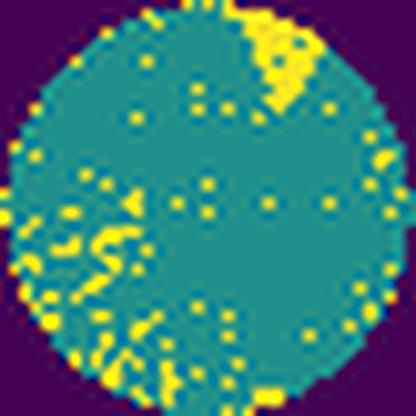Edge-Loc: (218, 0, 329, 124), (244, 384, 295, 416)
